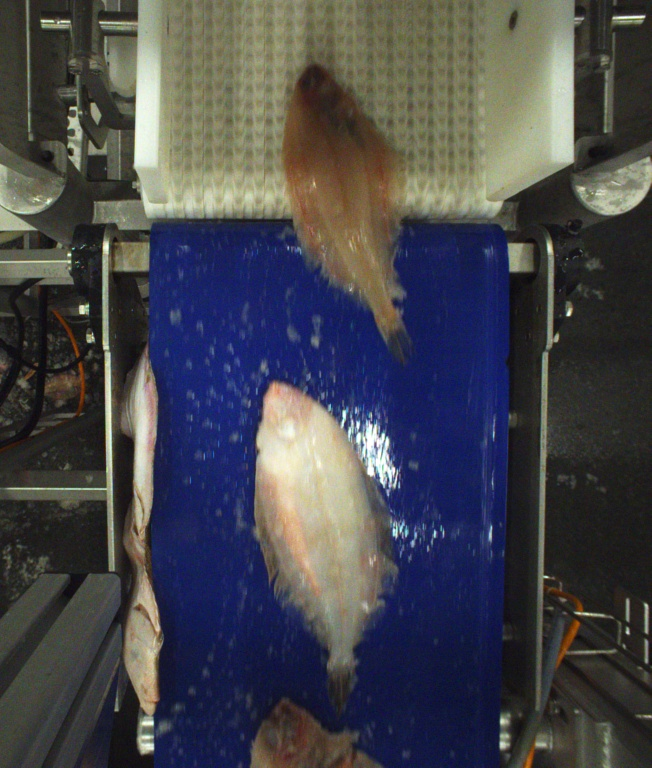WIT: (285, 63, 412, 358)
